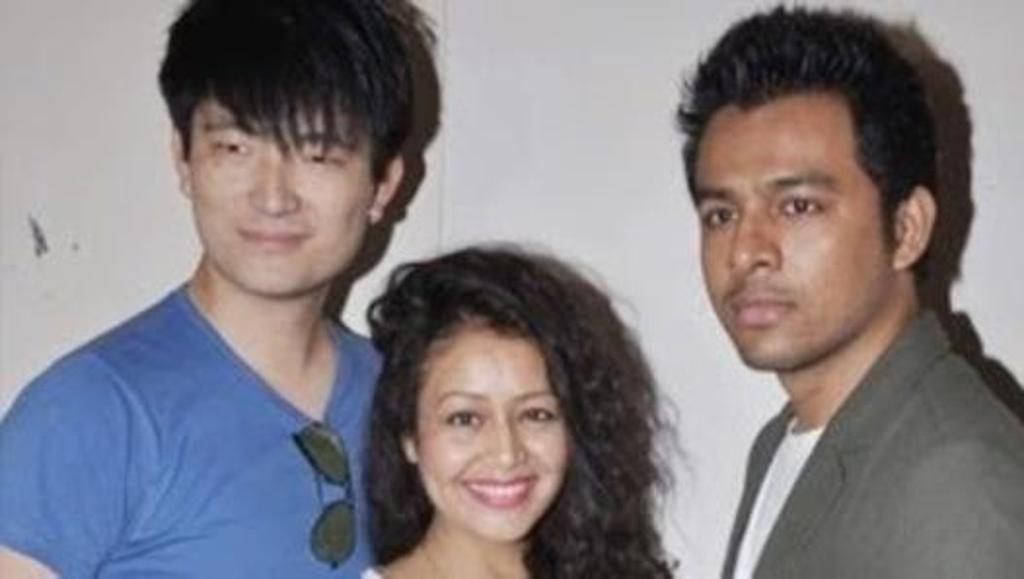face: (700, 88, 874, 366), (202, 66, 378, 298), (416, 334, 572, 542)
